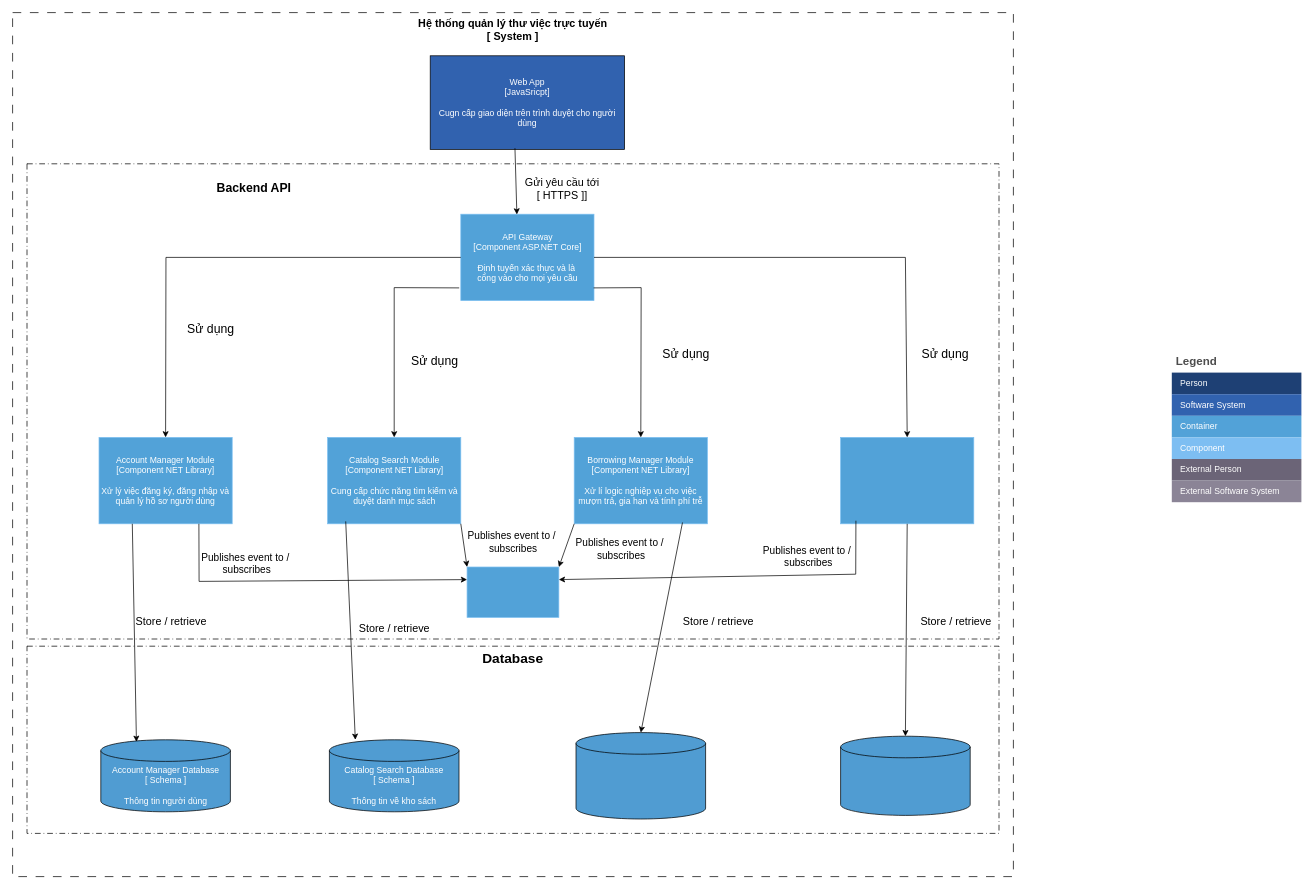
This 1314x889 diagram has some shape labels left out. The shapes that lost their labels are listed below. From the top down, each one's box as (x1, y1, x2, y2) in pixels, then its label:
(840, 437, 974, 524): Payments Moudle [Component NET Library] Xử lý các khoản phí cần phải thanh toán
(466, 566, 559, 617): Events bus [in memory]
(575, 732, 706, 819): Borrowin Manager Database [ Schema ] Tất cả cái giao dịch mượn trả sách
(840, 735, 970, 815): Payments Databse [ Schema ] Lịch sử và trạng thái các giao dịch thanh toán
